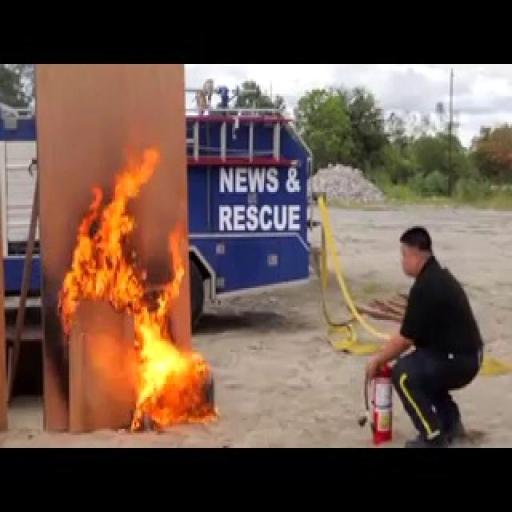smoke: (53, 88, 214, 433)
